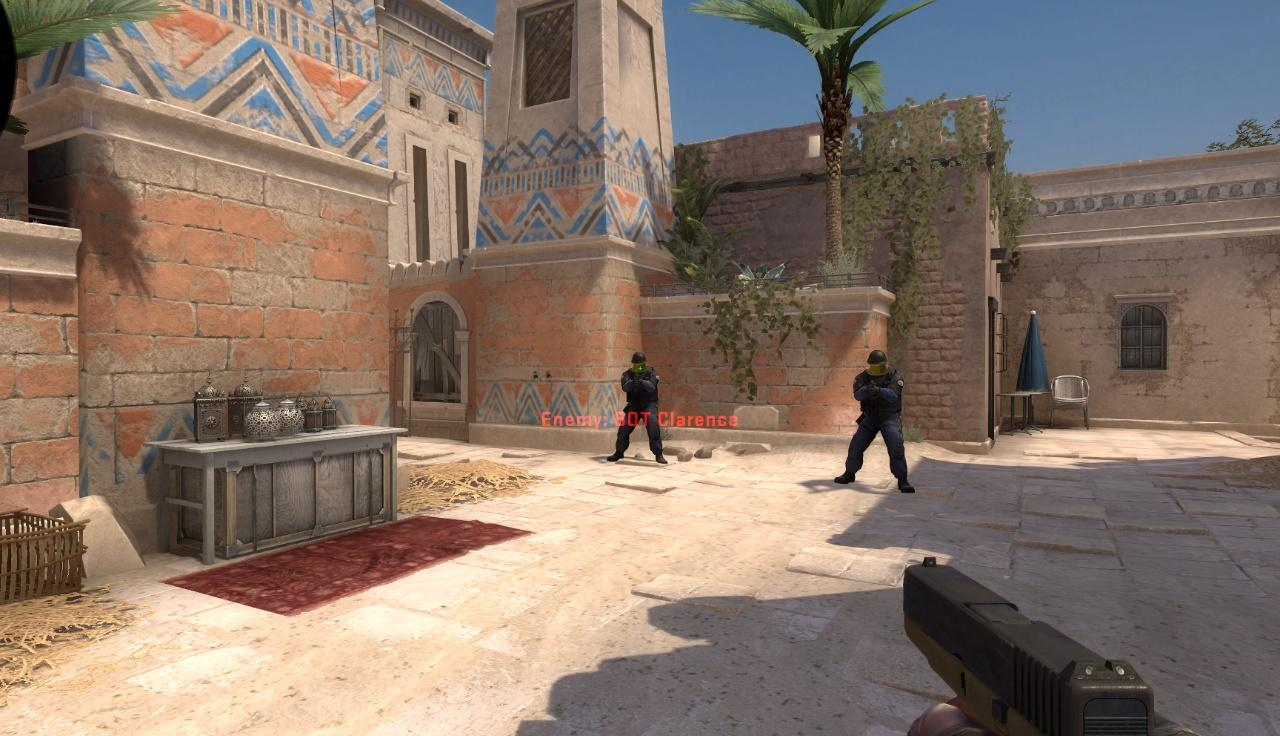ct: (854, 350, 907, 488), (621, 353, 658, 462)
cthead: (868, 352, 887, 375), (632, 352, 645, 372)
pistol: (900, 554, 1152, 736)
